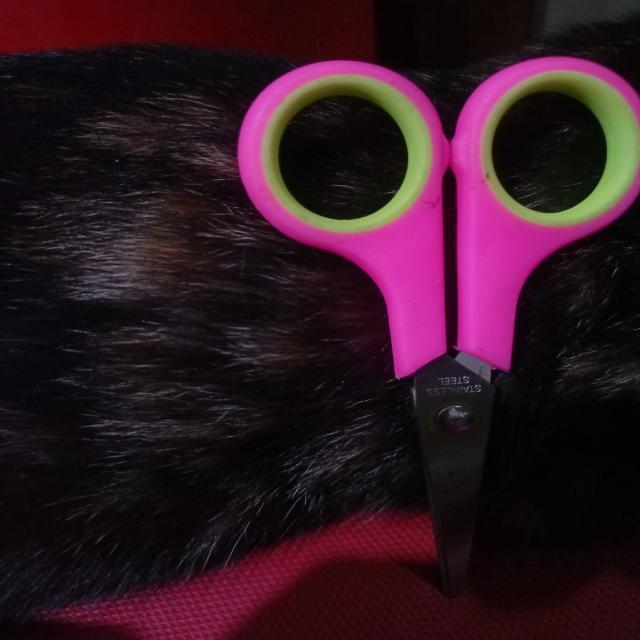scissors: (250, 50, 624, 598)
